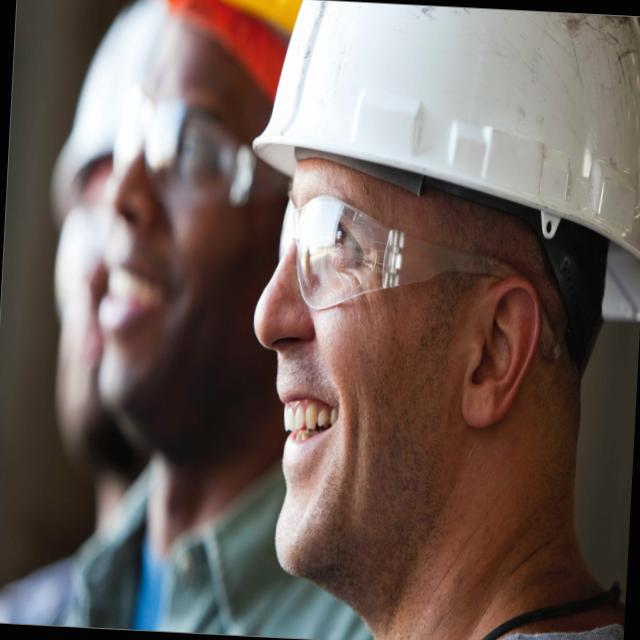goggles: (266, 192, 576, 386)
helmet: (233, 0, 640, 382)
